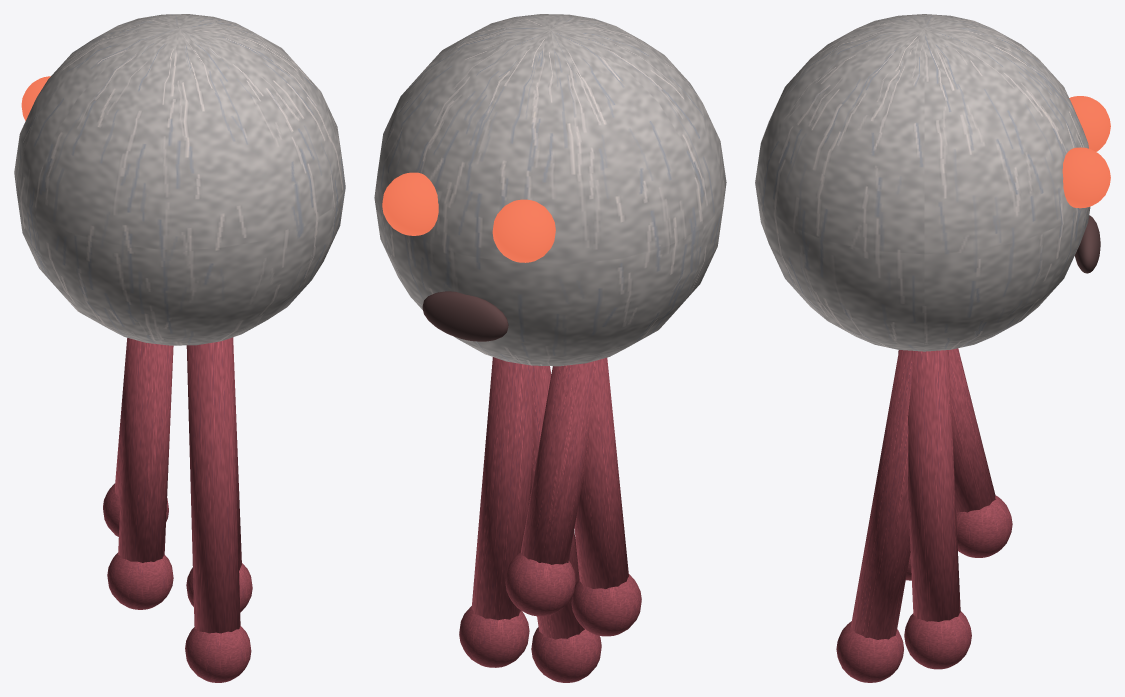
Rendered from penanggalan.glb.
3 renders of one model, left to right at view 1: azimuth 30°, elevation 25°; view 2: azimuth 150°, elevation 25°; view 3: azimuth 270°, elevation 25°, orthographic. The views are drawn at different scales.
Parts seen in each view (by area): view 1: Head, Entrail.002, Entrail.001, Organ.002, Organ.001, Organ, Organ.003, Entrail.003, Entrail, Eye; view 2: Head, Entrail, Entrail.003, Entrail.001, Organ.003, Mouth, Eye, Organ, Organ.001, Eye.001, Organ.002, Entrail.002; view 3: Head, Entrail, Entrail.002, Entrail.003, Organ, Organ.002, Organ.003, Eye.001, Eye, Mouth.
Part boxes in pixels (x1,y1,x2,y2): Head: (14, 14, 345, 345); Entrail.002: (186, 337, 240, 633); Entrail.001: (118, 338, 173, 562); Organ.002: (185, 626, 251, 682); Organ.001: (107, 552, 173, 609); Organ: (186, 563, 252, 612); Organ.003: (103, 483, 168, 536); Entrail.003: (115, 338, 127, 498); Entrail: (232, 337, 241, 570); Eye: (21, 76, 50, 120); Head: (374, 14, 726, 366); Entrail: (471, 357, 532, 620); Entrail.003: (521, 360, 597, 564); Entrail.001: (574, 357, 628, 588); Organ.003: (505, 552, 575, 616); Mouth: (422, 291, 508, 341); Eye: (492, 199, 555, 262); Organ: (459, 606, 529, 667); Organ.001: (571, 574, 641, 636); Eye.001: (382, 172, 438, 235); Organ.002: (531, 627, 601, 682); Entrail.002: (530, 365, 584, 639); Head: (755, 14, 1090, 351); Entrail: (907, 350, 960, 621); Entrail.002: (851, 350, 916, 639); Entrail.003: (948, 348, 995, 512); Organ: (904, 611, 971, 669); Organ.002: (836, 621, 903, 682); Organ.003: (956, 495, 1012, 557); Eye.001: (1062, 147, 1110, 208); Eye: (1069, 96, 1110, 151); Mouth: (1075, 215, 1100, 273).
Bounding box in the file's own units: 0.4762 × 1 × 0.5.
Materials: 4 (2 with a texture image).
